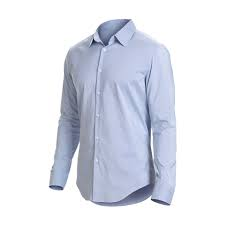C_shirt: (50, 17, 177, 204)
